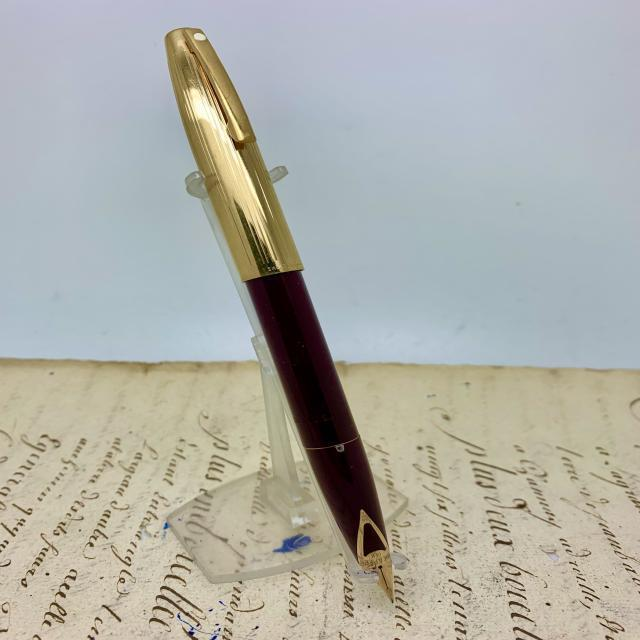pen: (162, 26, 401, 601)
